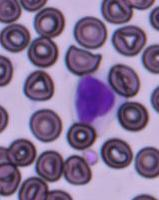M: (72, 72, 116, 127)
